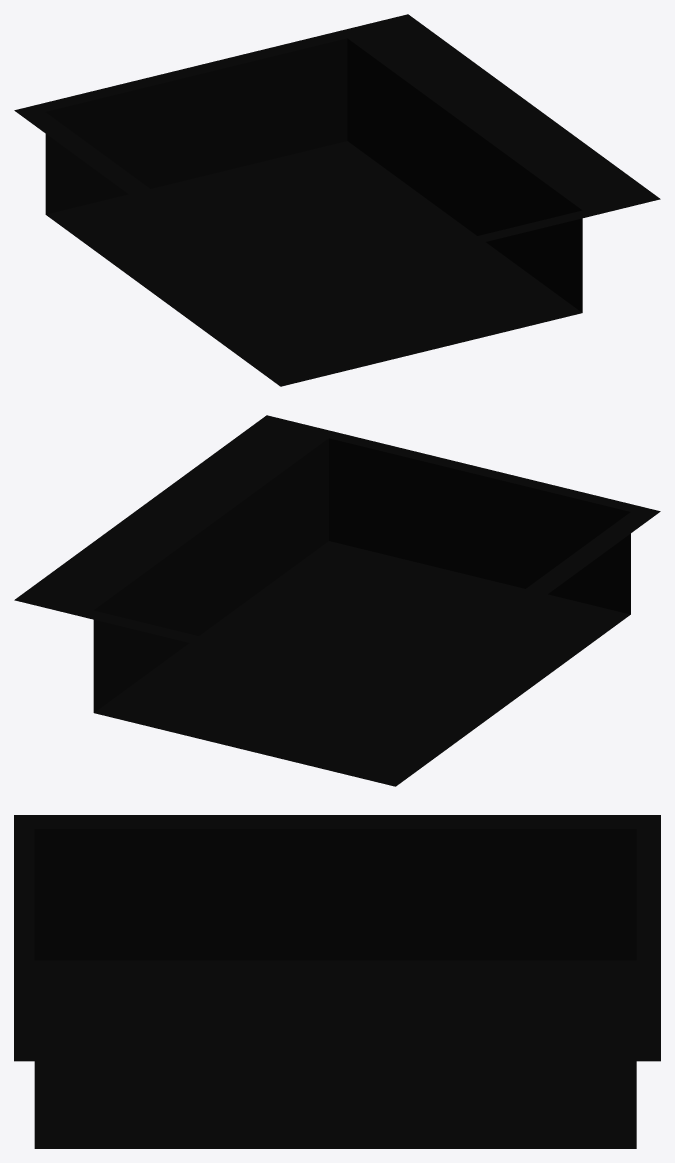
File: sink.glb
3 renders of one model, top to bottom at view 1: azimuth 30°, elevation 25°; view 2: azimuth 150°, elevation 25°; view 3: azimuth 270°, elevation 25°, orthographic. The views are drawn at different scales.
Parts seen in each view (by area): view 1: Sink; view 2: Sink; view 3: Sink.
Part boxes in pixels (x1,y1,x2,y2): Sink: (14,14,660,386); Sink: (14,415,660,786); Sink: (14,815,660,1148).
Bounding box in the file's own units: 3 × 0.7465 × 3.33.
1 material, 1 textured.
